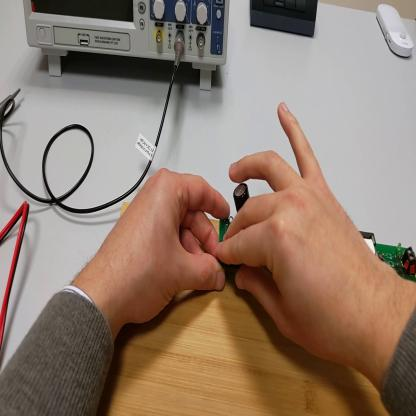hand: (225, 101, 373, 367), (108, 168, 229, 328)
high voltage board: (218, 175, 416, 281)
oscilloscope: (23, 2, 233, 92)
oscilloscope probe tip: (2, 90, 21, 122)
working area: (97, 203, 390, 416)
